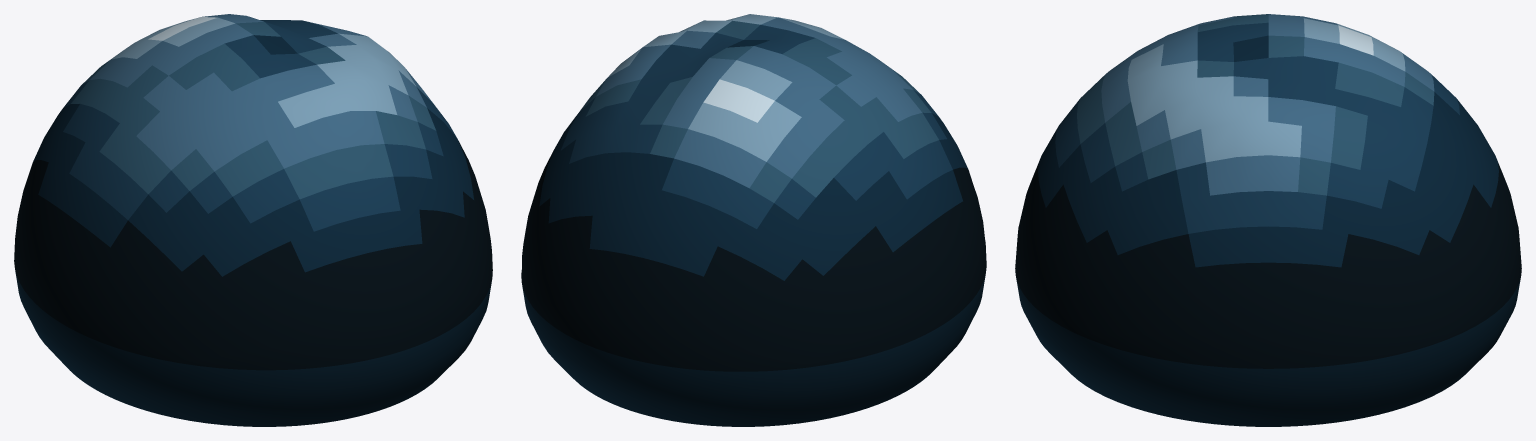
Rendered from newshn-125.glb.
The picture shows the model from 3 angles, left to right: view 1: azimuth 30°, elevation 25°; view 2: azimuth 150°, elevation 25°; view 3: azimuth 270°, elevation 25°; orthographic projection. The views are drawn at different scales.
Visible parts, largest first — view 1: newshn-125; view 2: newshn-125; view 3: newshn-125.
Part boxes in pixels (x1,y1,x2,y2): newshn-125: (14, 14, 492, 426); newshn-125: (521, 14, 986, 426); newshn-125: (1015, 14, 1521, 426).
Bounding box in the file's own units: 1.26 × 0.8971 × 1.34.
